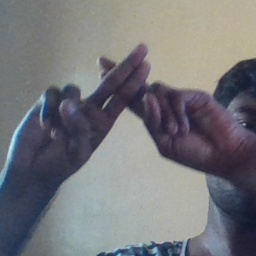F: (61, 39, 192, 153)
